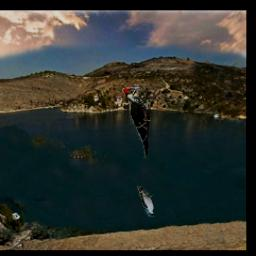Swallow: (137, 187, 154, 218)
Woodpecker: (123, 84, 152, 159)
